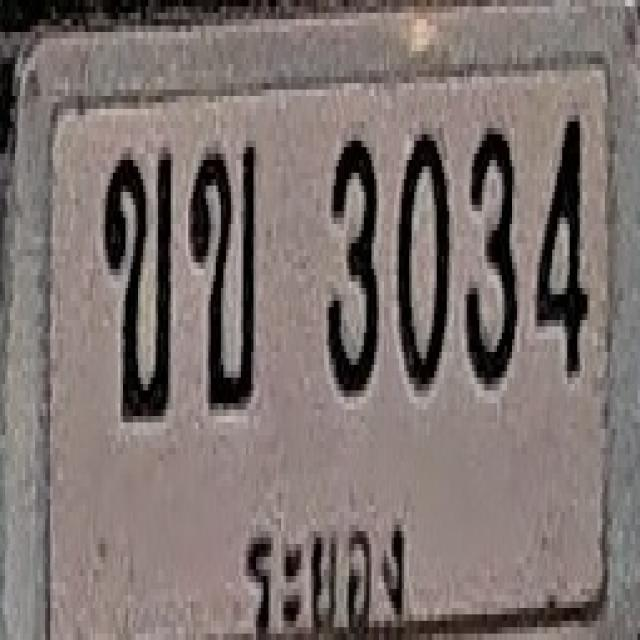0: (397, 128, 449, 390)
3: (325, 134, 378, 397), (464, 122, 517, 384)
4: (535, 112, 587, 374)
A02: (102, 144, 172, 419), (190, 140, 258, 410)
RYG: (221, 492, 420, 640)
